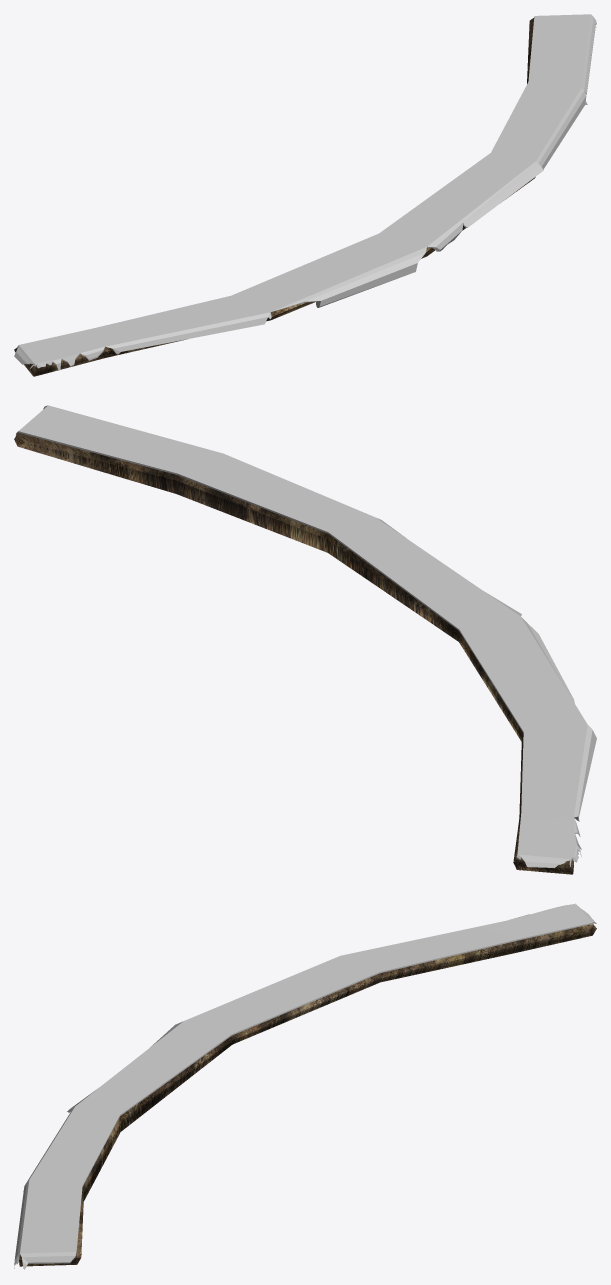
Rendered from Plat05.FBX.
3 views of the same model, one above another, from view 1: azimuth 90°, elevation 25°; view 2: azimuth 150°, elevation 25°; view 3: azimuth 270°, elevation 25° (orthographic). The views are drawn at different scales.
Visible parts, largest first — view 1: Plat008; view 2: Plat008; view 3: Plat008.
Boxes of the visible parts, bbox=[...] form: Plat008: bbox=[14, 14, 596, 376]; Plat008: bbox=[14, 405, 596, 874]; Plat008: bbox=[14, 903, 596, 1269].
Size of what is drawn, in the model's own units: 194 by 135 by 4.48.
